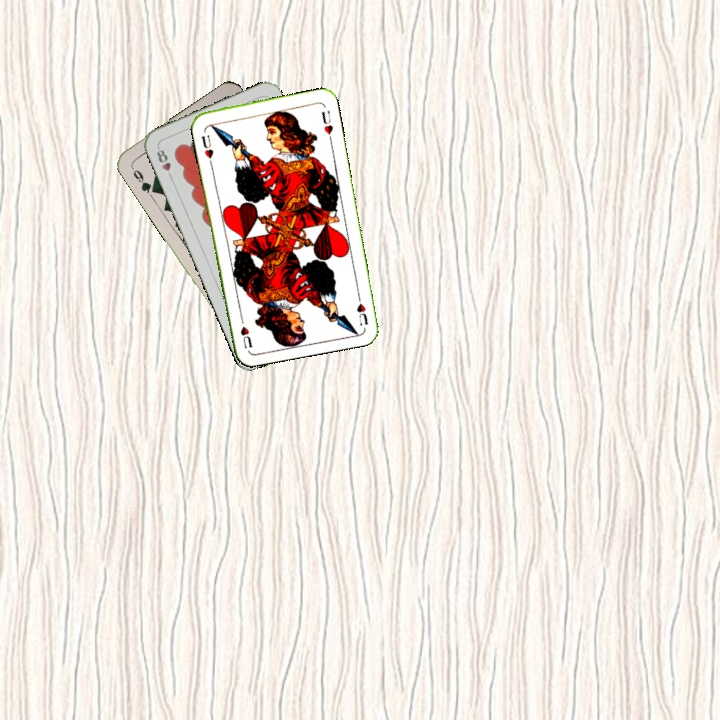G9: (127, 162, 158, 196)
H8: (152, 143, 175, 182)
HU: (353, 288, 370, 328), (197, 131, 216, 161)
